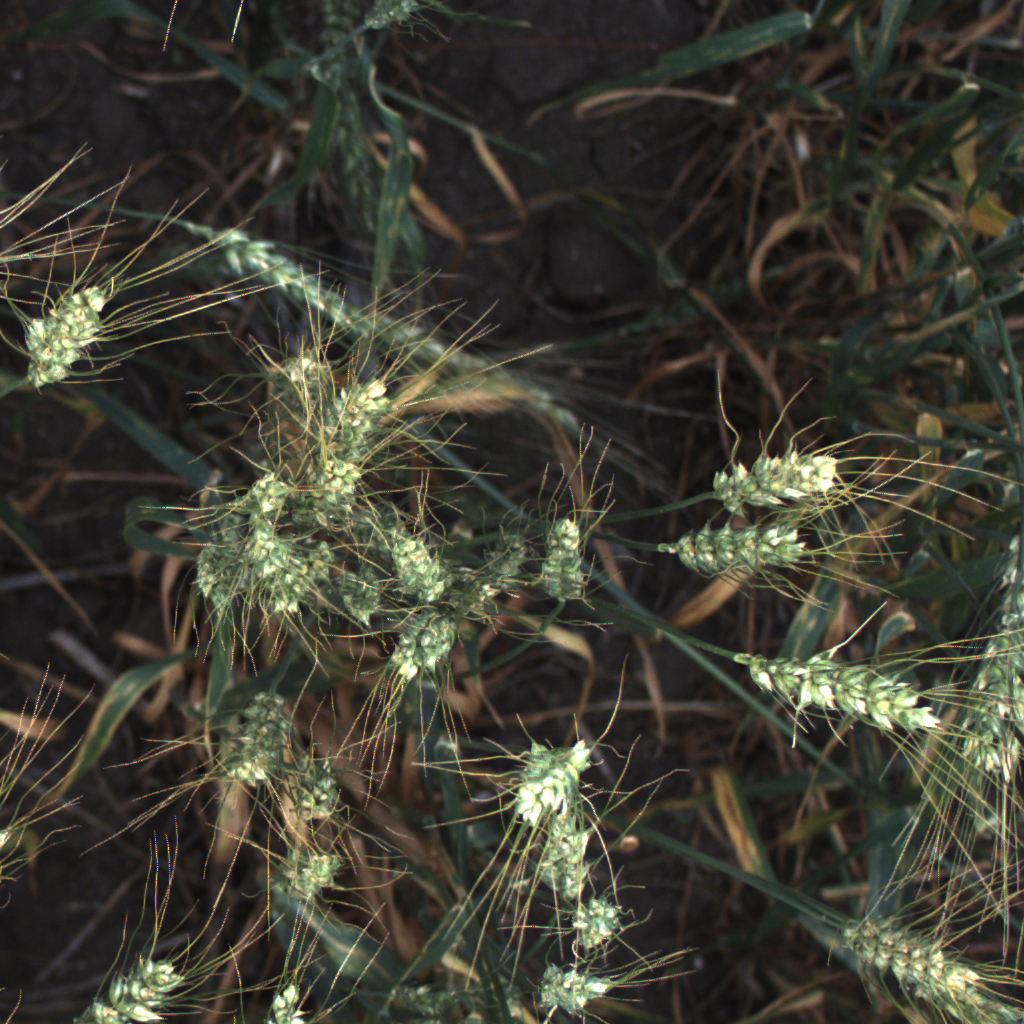wheat_head: (187, 511, 600, 610), (736, 629, 951, 739), (183, 213, 367, 333), (833, 922, 1022, 1024), (13, 259, 123, 399), (485, 704, 600, 828), (946, 614, 1022, 782), (61, 942, 196, 1024), (709, 441, 852, 517), (667, 514, 822, 580), (992, 519, 1024, 798), (223, 682, 295, 797), (247, 522, 322, 625), (389, 609, 480, 690), (259, 838, 348, 918), (380, 518, 459, 605), (522, 953, 618, 1024), (285, 739, 347, 832), (323, 376, 394, 454), (467, 527, 531, 611), (303, 457, 379, 527), (269, 352, 335, 431), (562, 882, 628, 958), (530, 813, 600, 875), (245, 970, 322, 1024), (350, 0, 434, 46), (336, 566, 389, 629), (236, 469, 300, 520)
